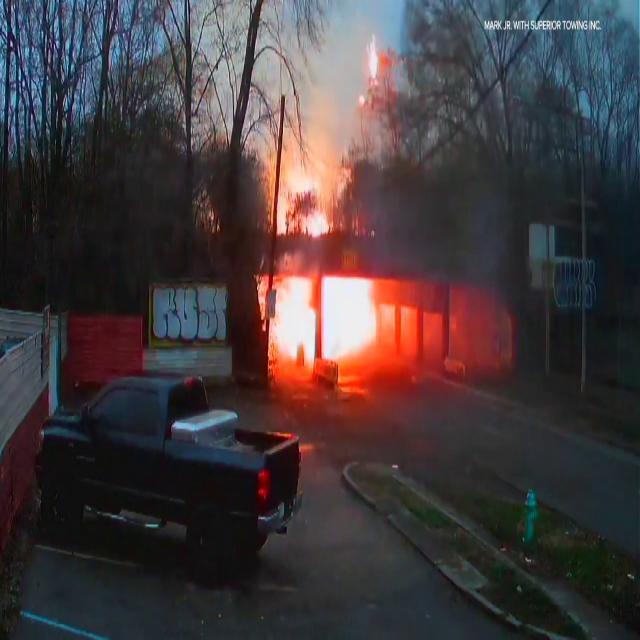Fire: (256, 268, 439, 378), (265, 140, 341, 243)
